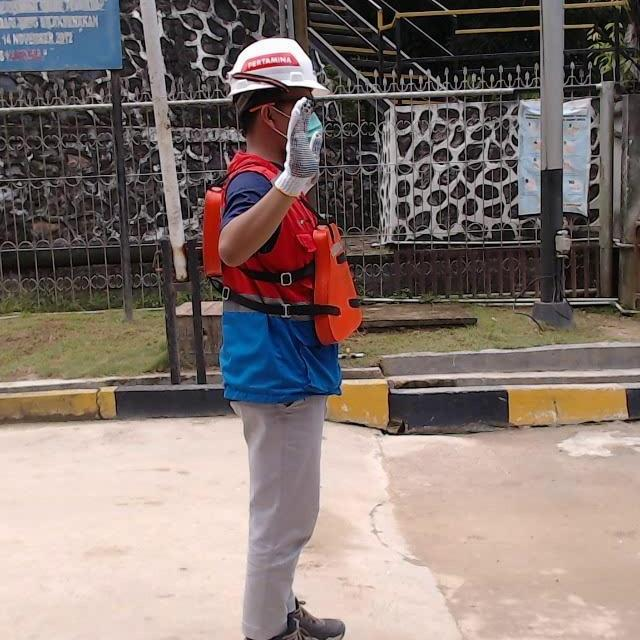Gloves: (275, 94, 324, 195)
Hardhat: (229, 37, 335, 102)
Mask: (269, 107, 329, 145)
Person: (194, 31, 348, 640)
Safety Vest: (197, 184, 368, 346)
